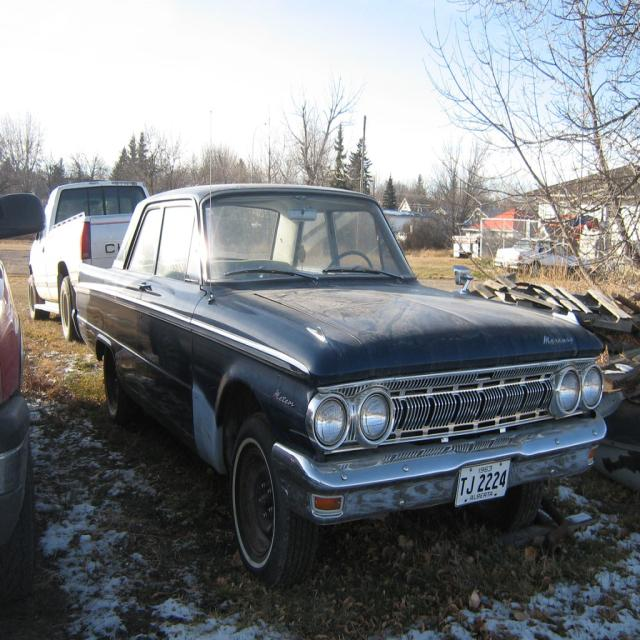car: (68, 107, 608, 586)
